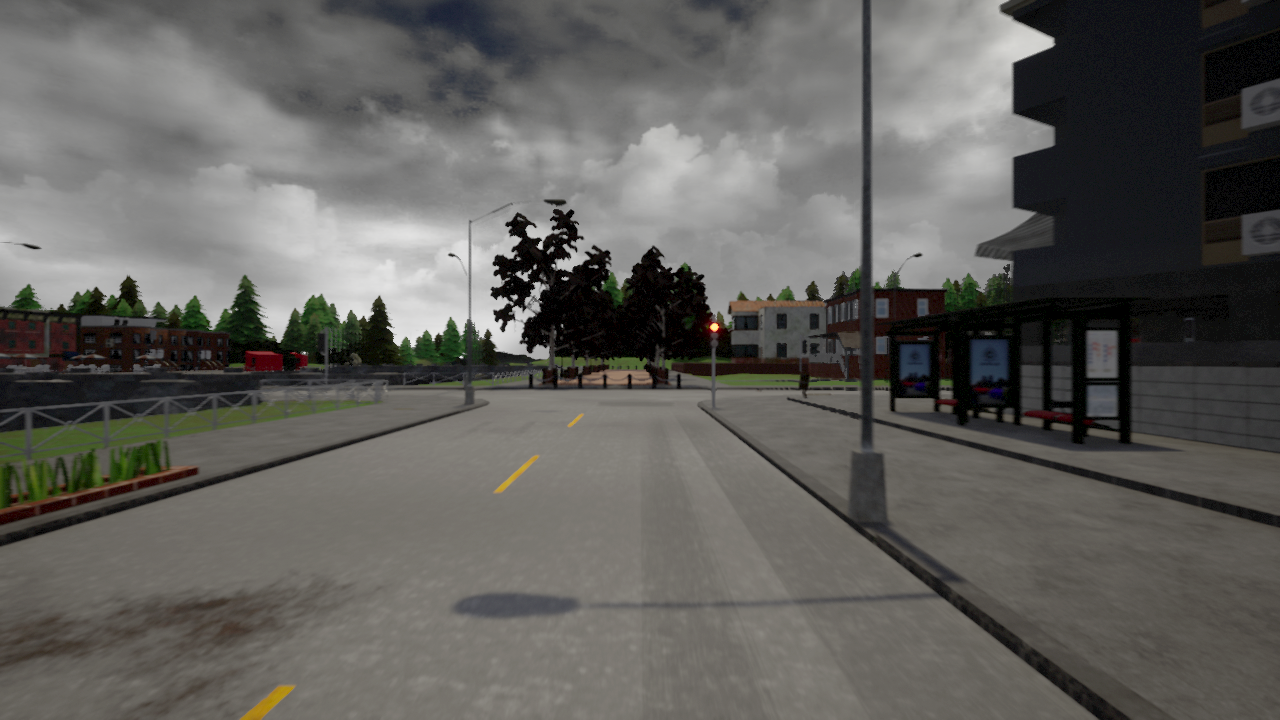red: (708, 321, 719, 348)
